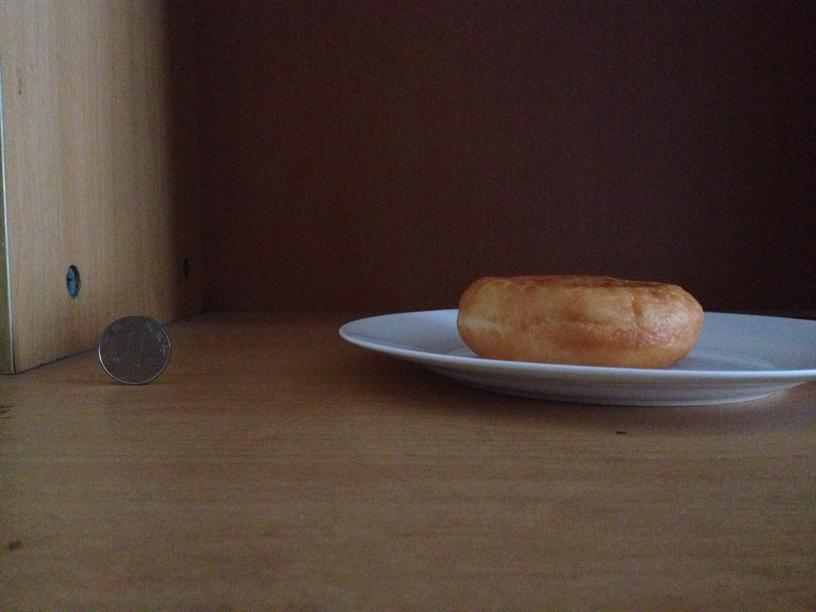coin: (96, 313, 171, 385)
doughnut: (456, 274, 704, 364)
